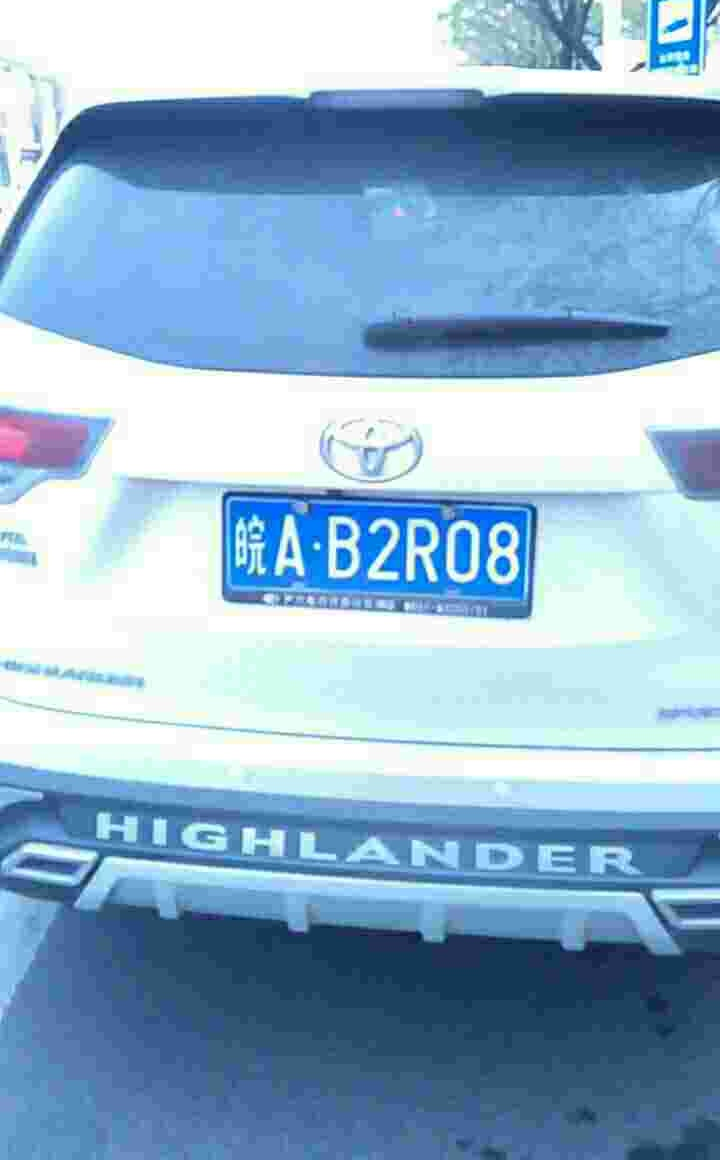license_plate: (219, 498, 529, 608)
